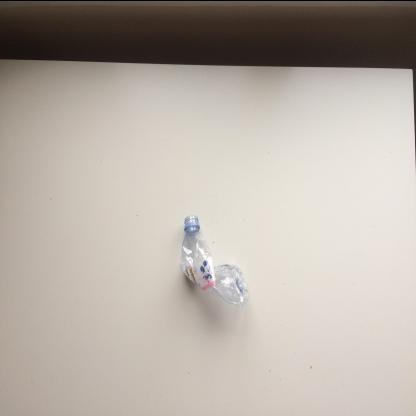plastik: (181, 214, 249, 308)
